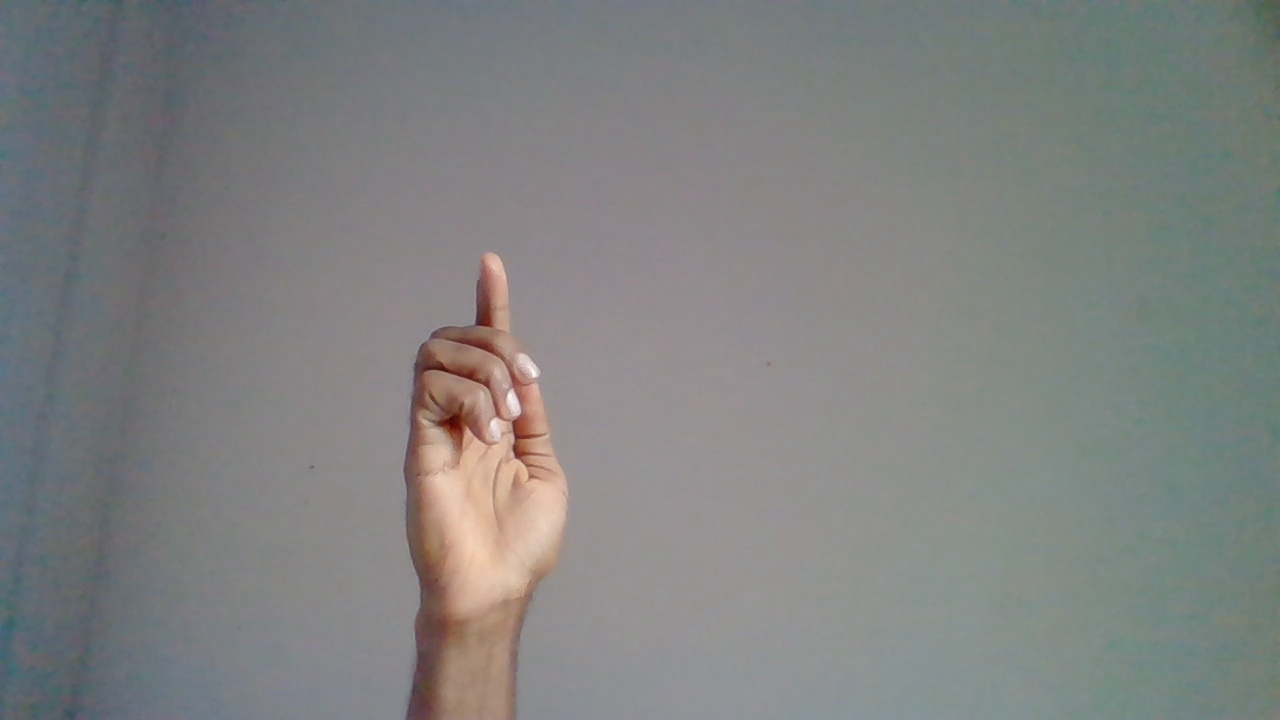qe: (402, 255, 576, 685)
